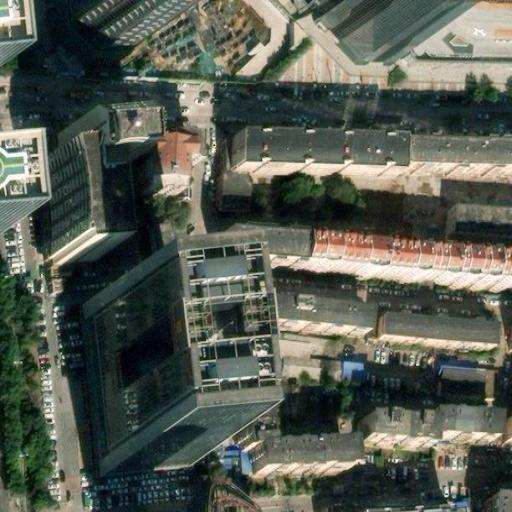building: (78, 296, 191, 476), (35, 140, 185, 258), (326, 0, 461, 78), (299, 234, 512, 279), (227, 138, 423, 179), (68, 0, 153, 64), (225, 353, 267, 455), (249, 442, 355, 482), (231, 303, 360, 335), (375, 307, 488, 337), (222, 224, 301, 257), (434, 363, 492, 403), (358, 421, 428, 447), (428, 409, 492, 437), (448, 202, 512, 228), (323, 497, 431, 512), (340, 360, 367, 385), (493, 414, 512, 449), (488, 497, 512, 512)
